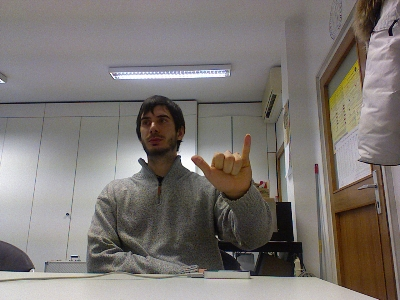六六六: (189, 131, 254, 197)
